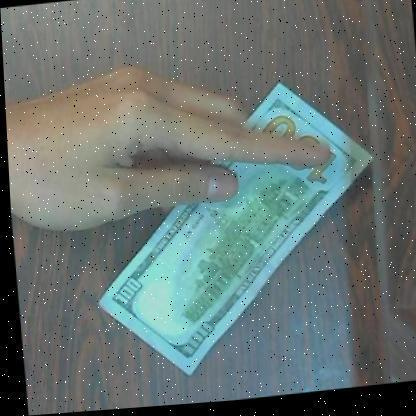one_hundred-back: (73, 74, 390, 388)
